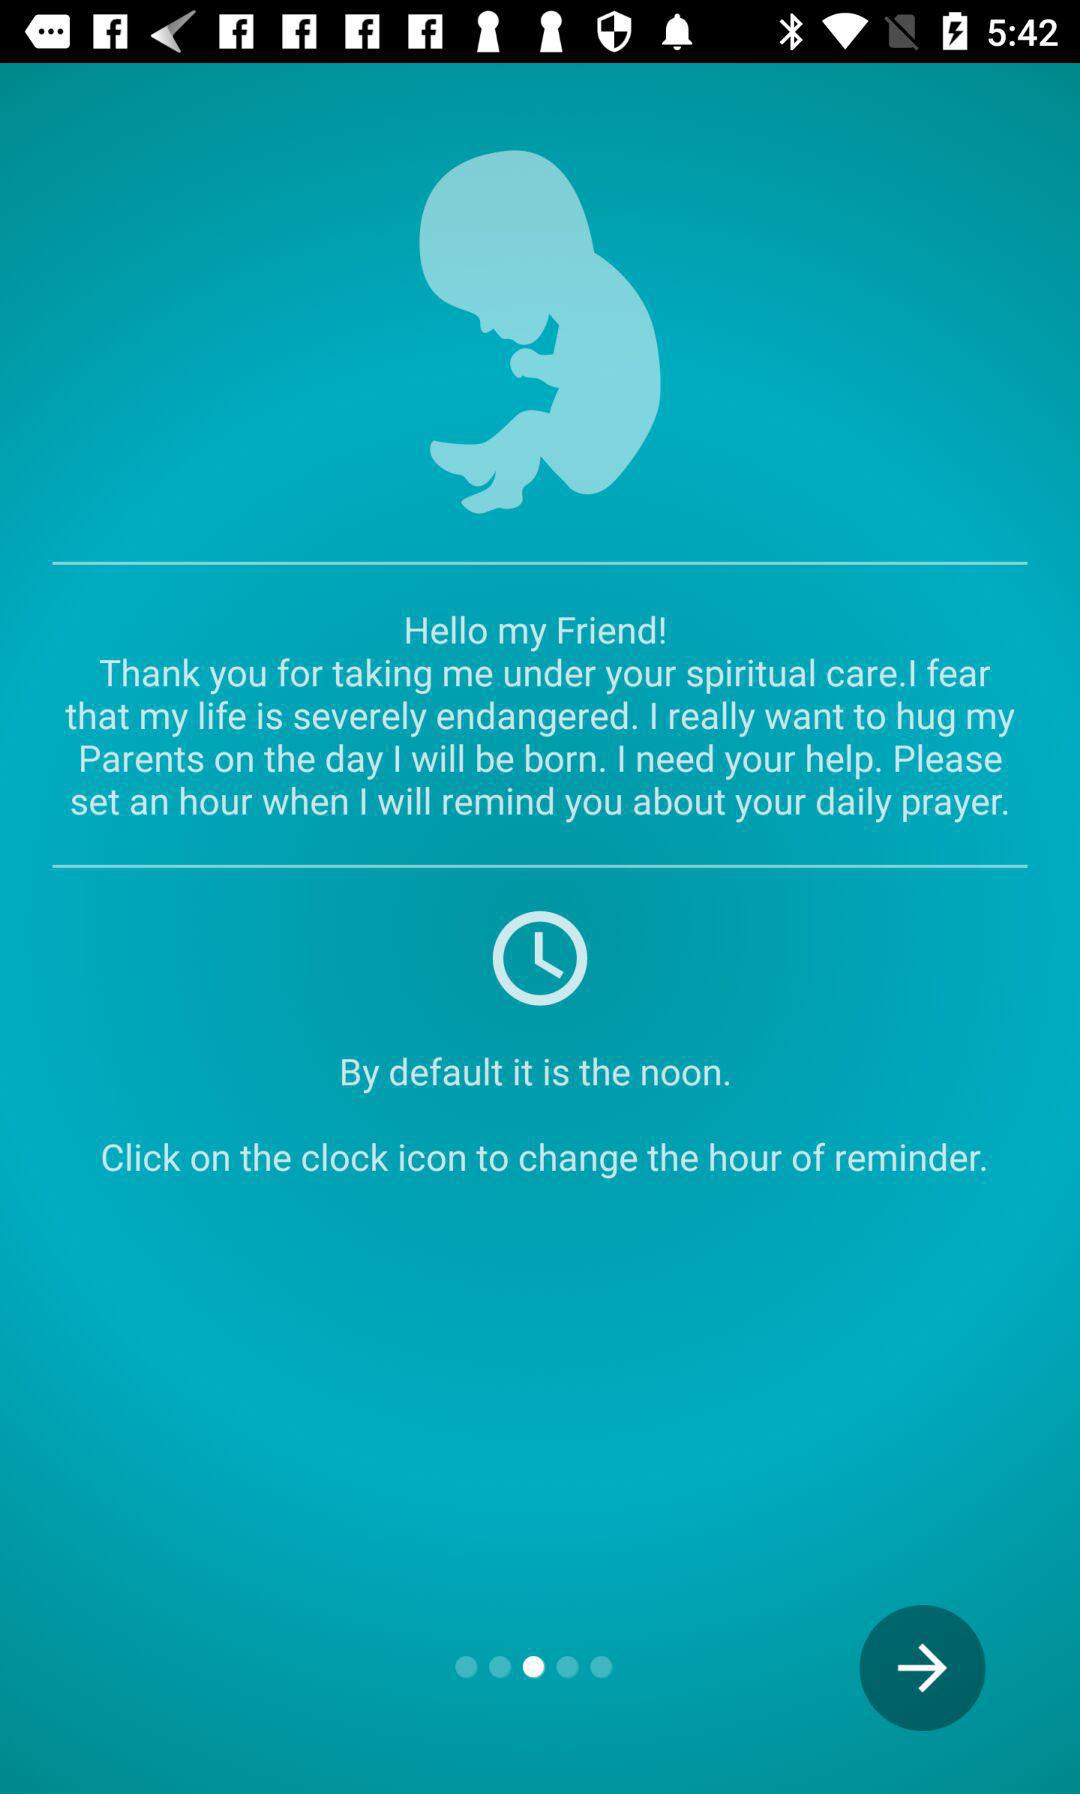Icon: (858, 1604, 988, 1732), (492, 911, 591, 1007)
Image: (416, 149, 664, 516)
PageIndicator: (452, 1652, 618, 1684)
Text: (65, 657, 1016, 827), (102, 1140, 988, 1181), (340, 1055, 729, 1097), (405, 614, 667, 654)
UpperTaskBar: (1, 1, 1080, 64)
